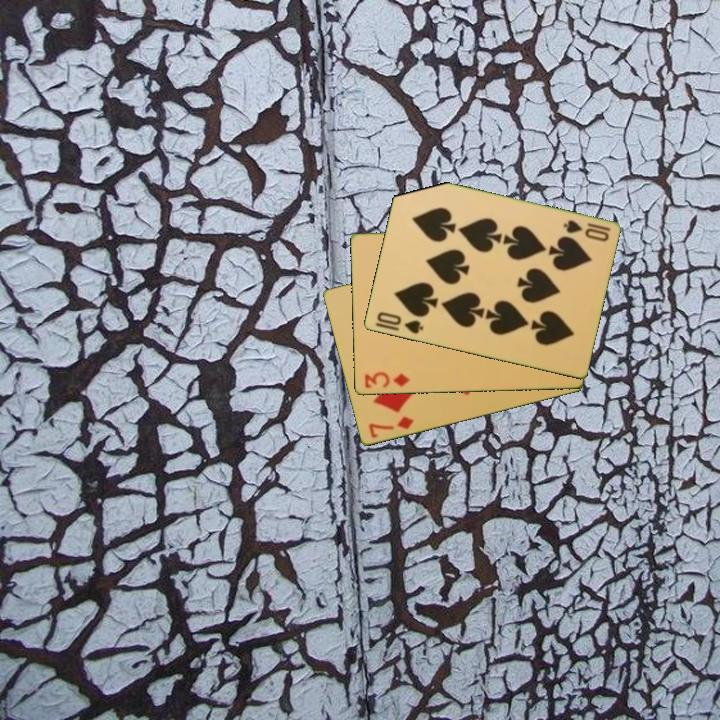10s: (559, 217, 613, 245), (373, 309, 426, 337)
3d: (361, 368, 413, 391)
7d: (365, 413, 416, 442)
